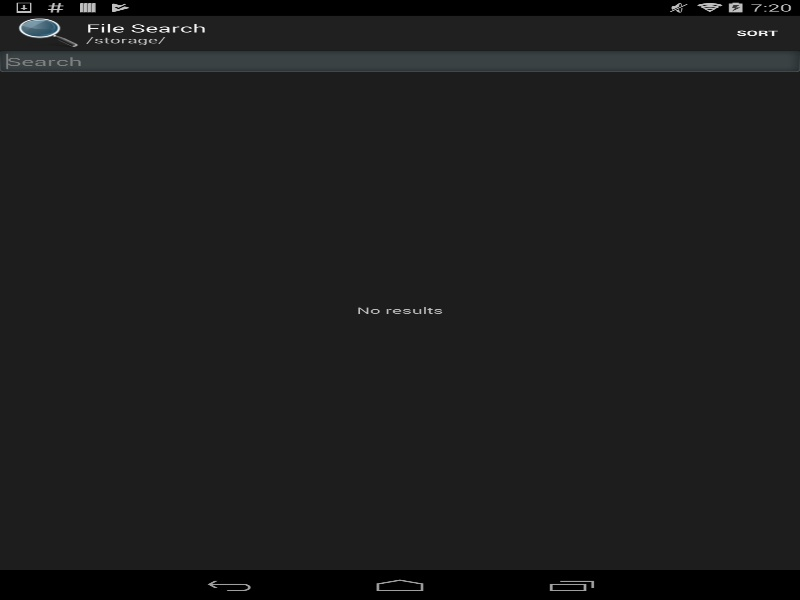Input: (0, 50, 800, 72)
